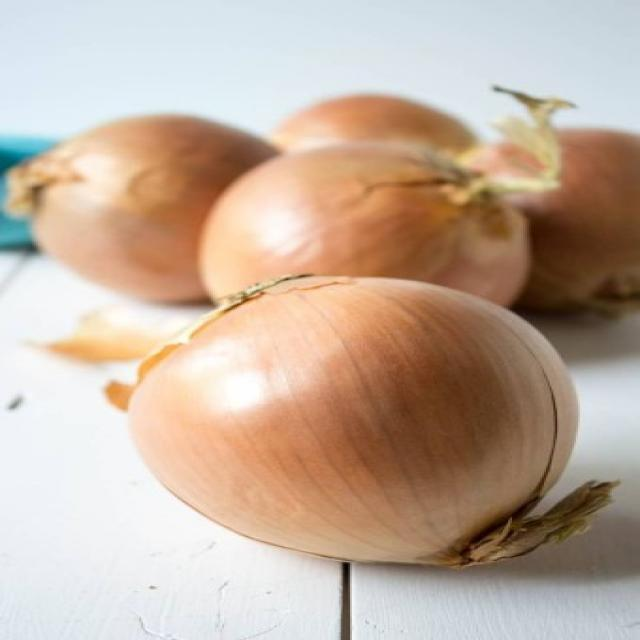Onion: (112, 274, 621, 573), (200, 82, 579, 308), (8, 112, 284, 306), (448, 125, 640, 327), (274, 95, 478, 169), (19, 305, 196, 361)
